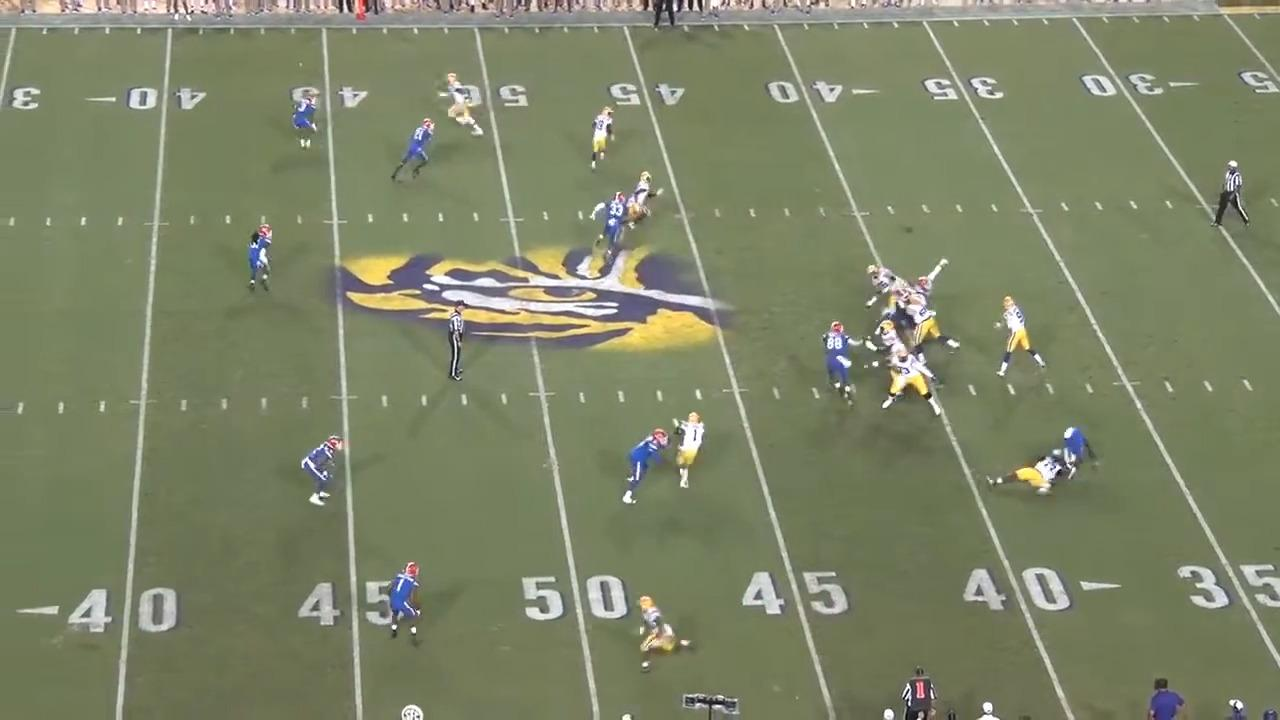defense: (619, 424, 675, 508), (297, 432, 346, 513), (817, 320, 864, 404), (382, 558, 425, 642), (388, 117, 436, 186), (592, 192, 631, 268), (1051, 419, 1091, 482), (247, 220, 279, 297), (874, 284, 916, 329), (290, 91, 322, 149), (914, 257, 956, 296)
oline: (880, 345, 945, 417), (990, 445, 1068, 498), (902, 294, 964, 355), (866, 321, 907, 370), (860, 262, 901, 311)
qb: (995, 295, 1051, 384)
ref: (1213, 157, 1253, 227), (441, 299, 472, 383), (893, 661, 936, 717), (649, 0, 679, 31)
skill: (635, 595, 696, 675), (441, 72, 487, 141), (667, 412, 704, 494), (630, 171, 666, 235), (582, 104, 614, 171)
